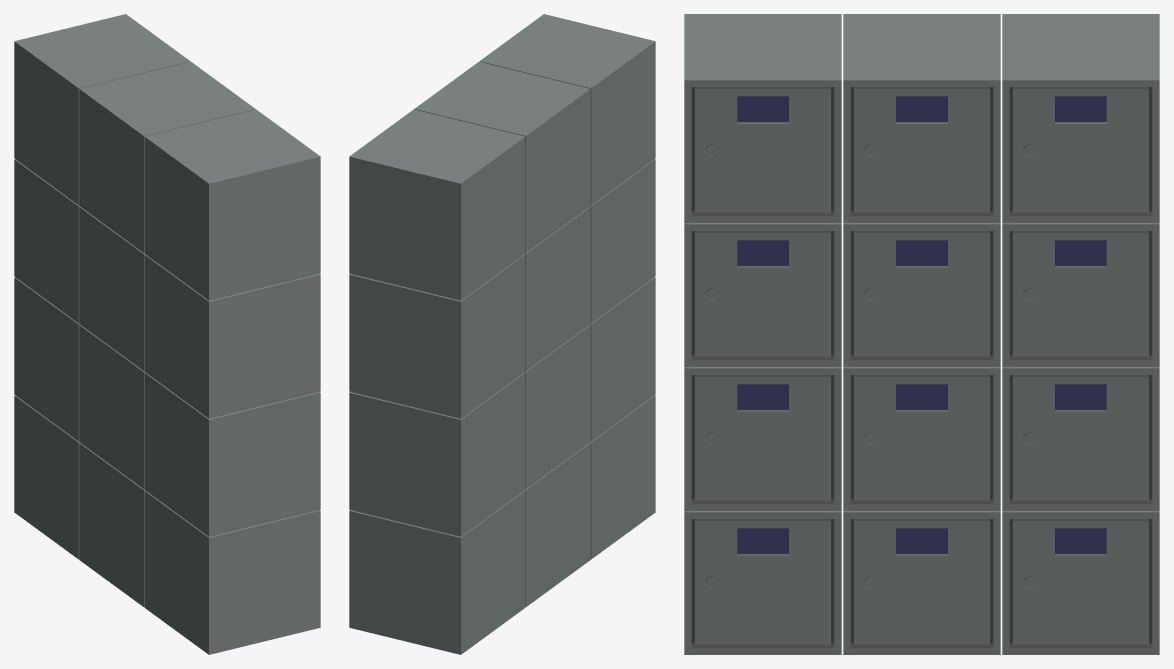
The model's file is POBoxes.glb.
The picture shows the model from 3 angles, left to right: view 1: azimuth 30°, elevation 25°; view 2: azimuth 150°, elevation 25°; view 3: azimuth 270°, elevation 25°; orthographic projection. The views are drawn at different scales.
Parts seen in each view (by area): view 1: Cube; view 2: Cube; view 3: Cube.
Part boxes in pixels (bbox=[...]): Cube: bbox=[14, 14, 320, 654]; Cube: bbox=[349, 14, 655, 654]; Cube: bbox=[684, 14, 1159, 654].
Size of the model in its own units: 2 by 8.06 by 6.04.
